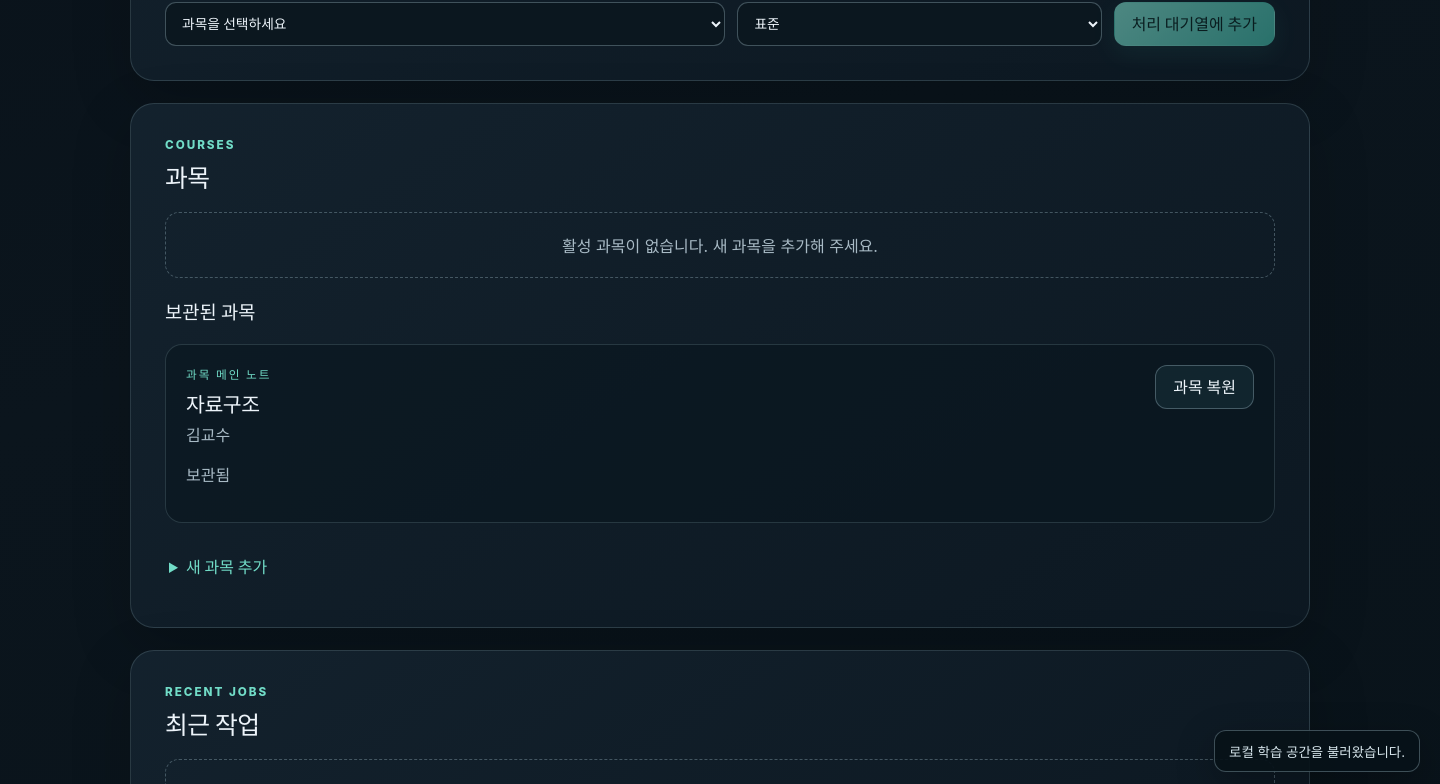
Scenario: App onboarding › keeps the dashboard available when every course is archived and restores one
(page scrolled)
Click the button "과목 복원" at {"x": 1205, "y": 387}, box top-left (1155, 365), bottom-right (1254, 409)
(page scrolled)
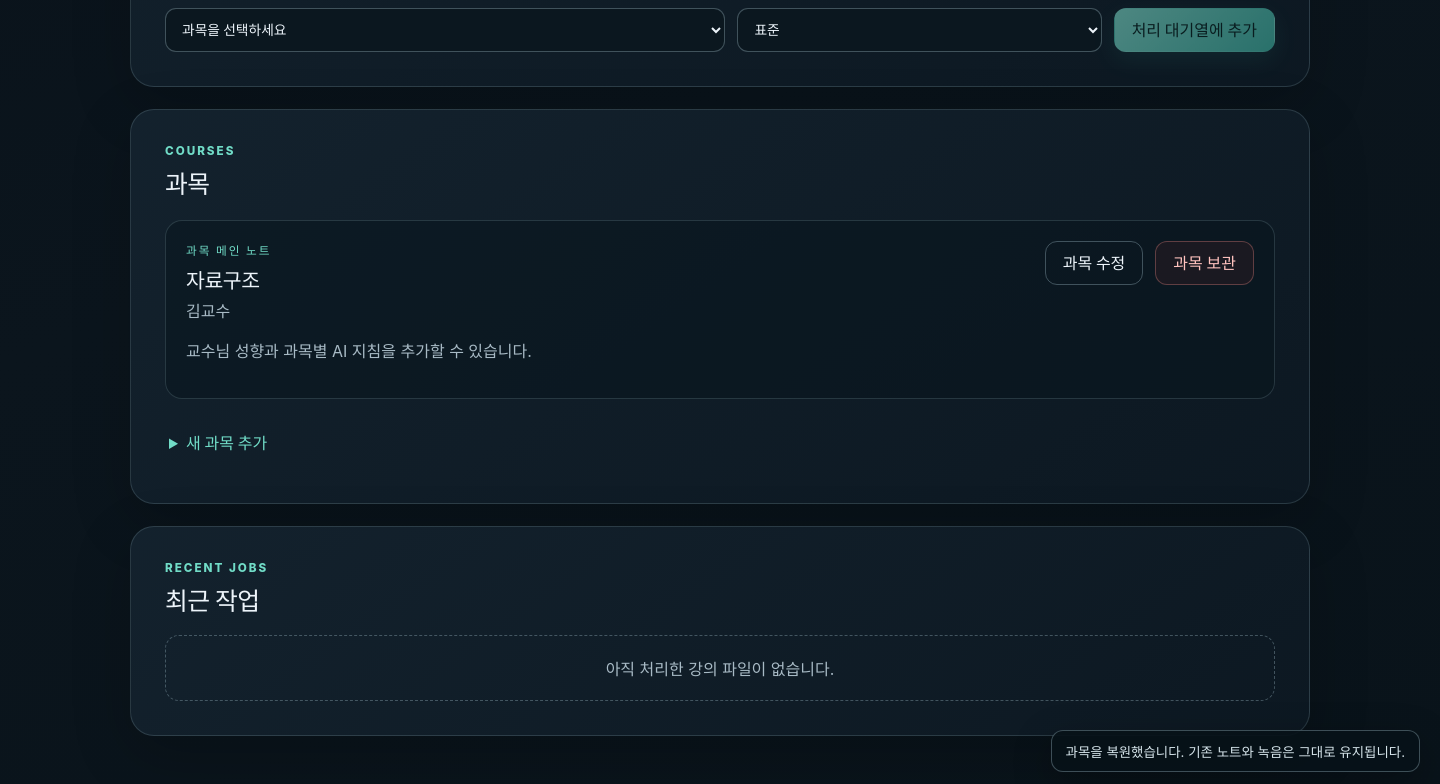
Now the button "과목 보관" is shown, box top-left (1155, 242), bottom-right (1254, 286)
